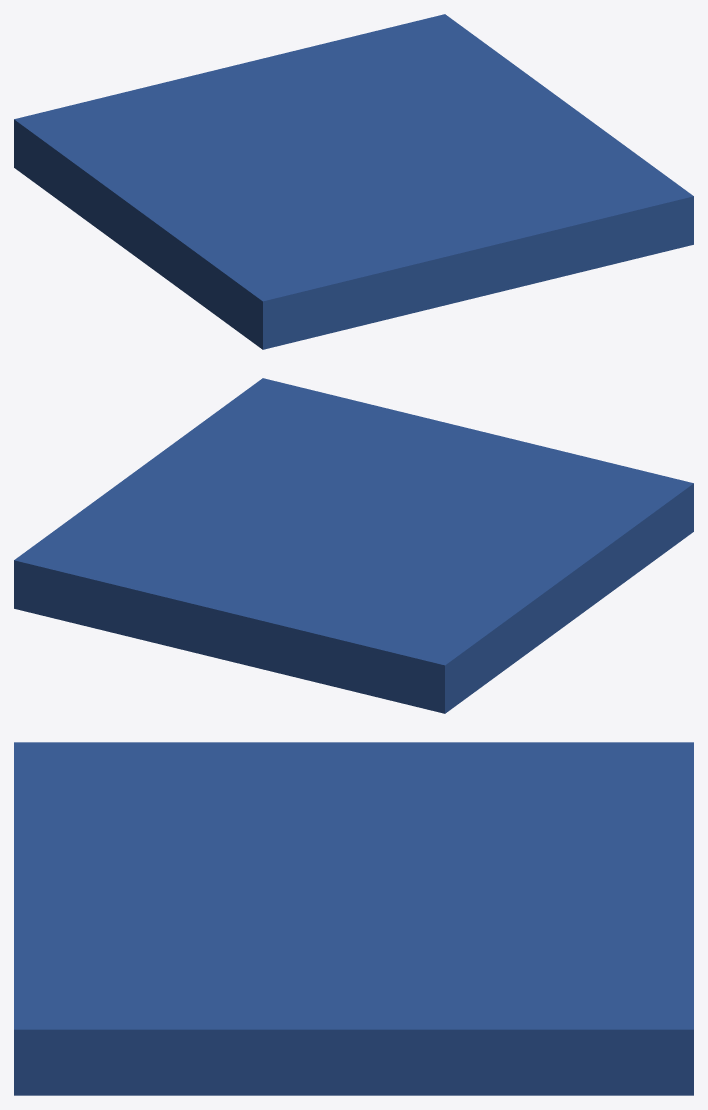
Rendered from zemin yeni şeffaf.fbx.
3 views of the same model, one above another, from view 1: azimuth 30°, elevation 25°; view 2: azimuth 150°, elevation 25°; view 3: azimuth 270°, elevation 25° (orthographic). The views are drawn at different scales.
Visible parts, largest first — view 1: SuKatmani; view 2: SuKatmani; view 3: SuKatmani.
Part boxes in pixels (left/top/right/bottom): SuKatmani: left=14, top=14, right=693, bottom=349; SuKatmani: left=14, top=378, right=693, bottom=713; SuKatmani: left=14, top=742, right=693, bottom=1095.
Bounding box in the file's own units: 104 × 11.17 × 104.
Materials: 2 (2 with a texture image).
